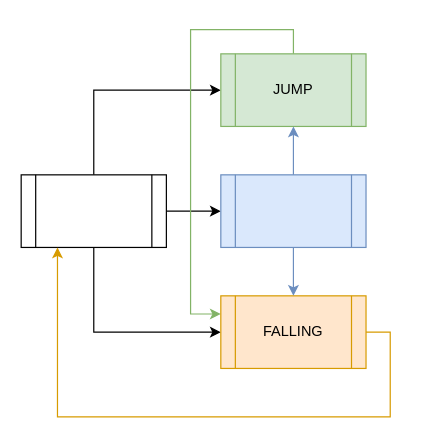
This 421x448 diagram has some shape labels left out. The centre of each missing label's shape, as x and y in pixels:
"IDLE" goes at (x=93, y=210).
"SLIDE" goes at (x=293, y=210).
